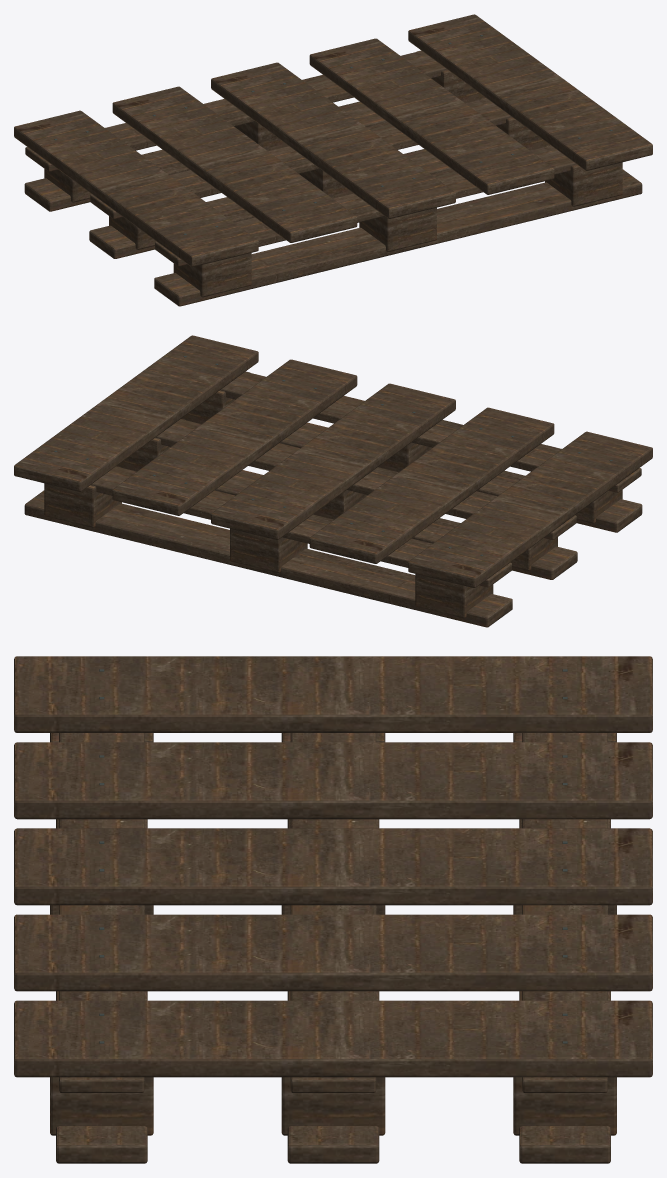
Rendered from wood-pallet.glb.
3 renders of one model, top to bottom at view 1: azimuth 30°, elevation 25°; view 2: azimuth 150°, elevation 25°; view 3: azimuth 270°, elevation 25°, orthographic. The views are drawn at different scales.
Parts seen in each view (by area): view 1: Deck plank.001, Deck plank.003, Deck plank.004, Deck plank.002, Deck plank, Base runner, Upper runner, Upper runner.002, Upper runner.001, Base runner.002, Base runner.001, Heavy wood block.006 (+8 smaller); view 2: Deck plank.001, Deck plank.003, Deck plank.004, Deck plank.002, Deck plank, Base runner.002, Upper runner.002, Upper runner, Upper runner.001, Base runner, Base runner.001, Heavy wood block.008 (+8 smaller); view 3: Deck plank.004, Deck plank.001, Deck plank.003, Deck plank.002, Deck plank, Upper runner.001, Upper runner, Upper runner.002, Heavy wood block.007, Heavy wood block.006, Heavy wood block.008, Base runner.001 (+2 smaller).
Boxes of the visible parts, bbox=[...] form: Deck plank.001: bbox=[112, 86, 357, 242]; Deck plank.003: bbox=[309, 38, 554, 194]; Deck plank.004: bbox=[408, 14, 652, 170]; Deck plank.002: bbox=[211, 62, 455, 218]; Deck plank: bbox=[14, 110, 258, 266]; Base runner: bbox=[154, 169, 642, 306]; Upper runner: bbox=[155, 145, 575, 266]; Upper runner.002: bbox=[25, 50, 446, 171]; Upper runner.001: bbox=[90, 98, 511, 218]; Base runner.002: bbox=[24, 101, 387, 211]; Base runner.001: bbox=[89, 149, 451, 258]; Heavy wood block.006: bbox=[545, 145, 622, 206]; Deck plank.001: bbox=[309, 407, 554, 563]; Deck plank.003: bbox=[112, 359, 357, 515]; Deck plank.004: bbox=[14, 335, 258, 491]; Deck plank.002: bbox=[211, 383, 455, 539]; Deck plank: bbox=[408, 431, 652, 587]; Base runner.002: bbox=[24, 490, 512, 627]; Upper runner.002: bbox=[91, 466, 511, 587]; Upper runner: bbox=[220, 371, 641, 492]; Upper runner.001: bbox=[155, 419, 576, 539]; Base runner: bbox=[279, 422, 642, 532]; Base runner.001: bbox=[215, 470, 577, 579]; Heavy wood block.008: bbox=[44, 466, 121, 527]; Deck plank.004: bbox=[14, 1000, 652, 1077]; Deck plank.001: bbox=[14, 742, 652, 819]; Deck plank.003: bbox=[14, 914, 652, 991]; Deck plank.002: bbox=[14, 828, 652, 905]; Deck plank: bbox=[14, 656, 652, 732]; Upper runner.001: bbox=[290, 733, 376, 1092]; Upper runner: bbox=[59, 733, 144, 1092]; Upper runner.002: bbox=[522, 733, 607, 1092]; Heavy wood block.007: bbox=[281, 1077, 385, 1135]; Heavy wood block.006: bbox=[50, 1077, 153, 1135]; Heavy wood block.008: bbox=[513, 1077, 616, 1135]; Base runner.001: bbox=[287, 819, 379, 1163].
Size of the model in its own units: 1.2 by 0.1469 by 0.8.
2 materials, 1 textured.
